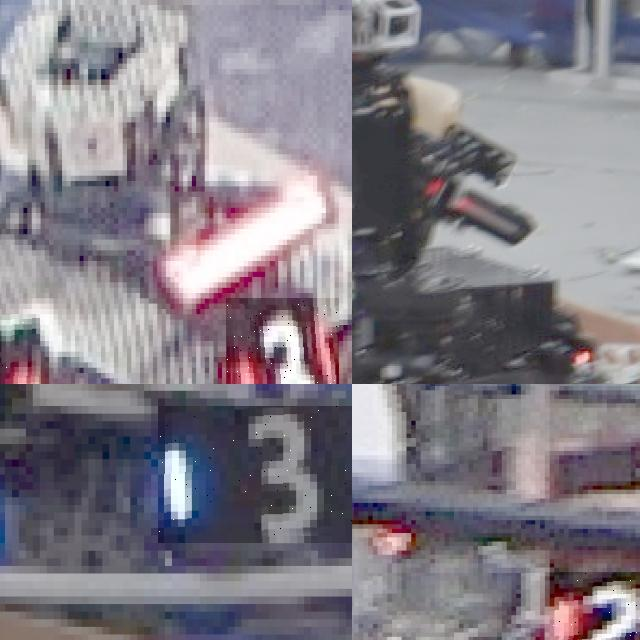B3: (158, 406, 352, 543)
R2: (544, 571, 640, 640)
R3: (226, 298, 338, 384)
